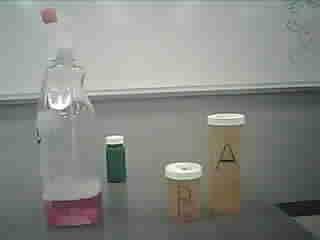Bottle A: (203, 104, 249, 214)
Bottle B: (163, 155, 205, 224)
Bottle C: (102, 127, 131, 187)
hazard: (29, 3, 105, 230)
